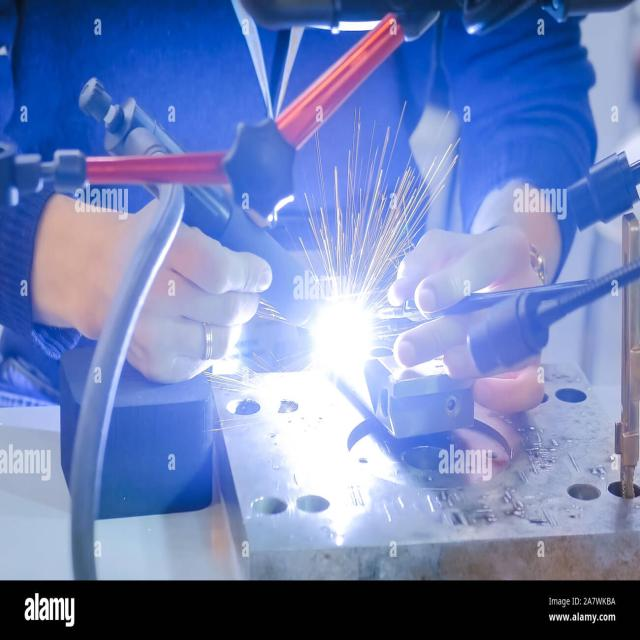welding: (307, 298, 377, 372)
